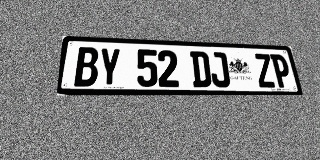2: (157, 50, 179, 87)
5: (137, 49, 158, 87)
B: (74, 47, 99, 87)
D: (190, 51, 212, 87)
J: (208, 52, 231, 87)
P: (270, 54, 293, 88)
Y: (98, 48, 121, 87)
Z: (253, 53, 276, 88)
